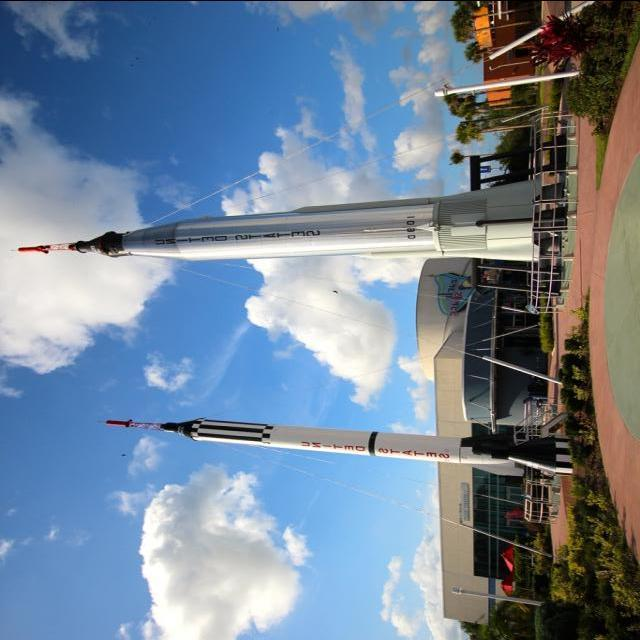Missile: (6, 173, 563, 258), (99, 412, 506, 464)
